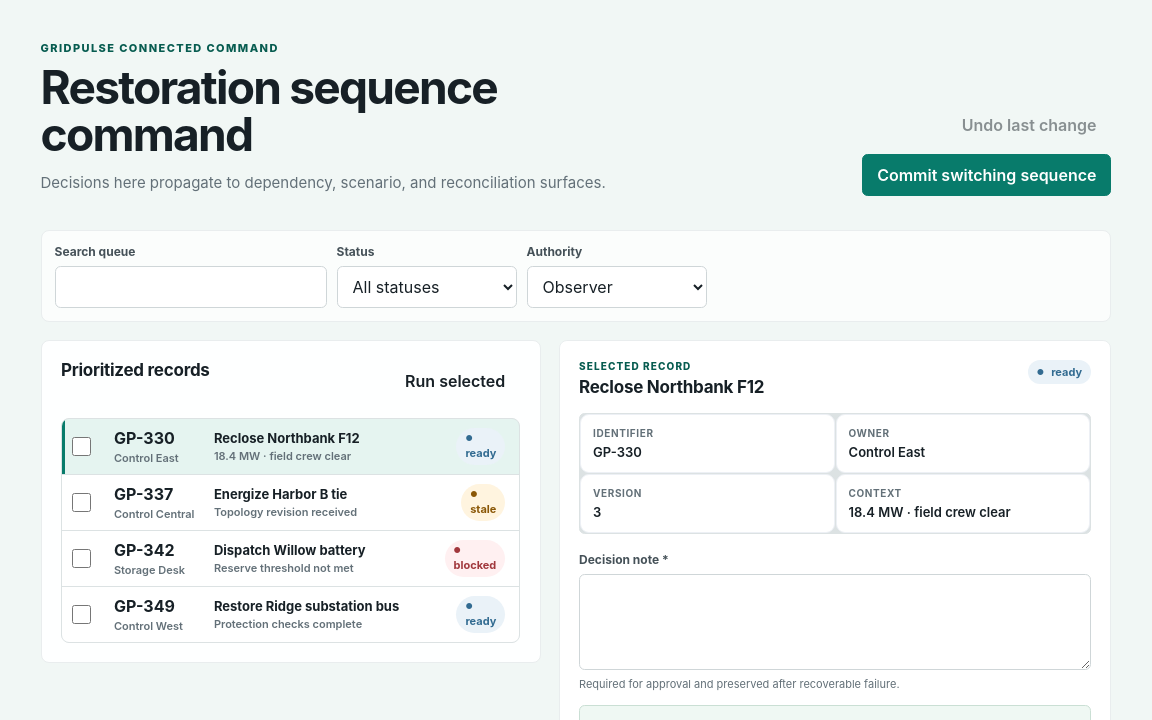
Restoration sequence command › filters the queue and offers recovery from an empty result
In the field labelled "Search queue": (190, 287) x1=54 y1=266 x2=326 y2=308, type "not-present"
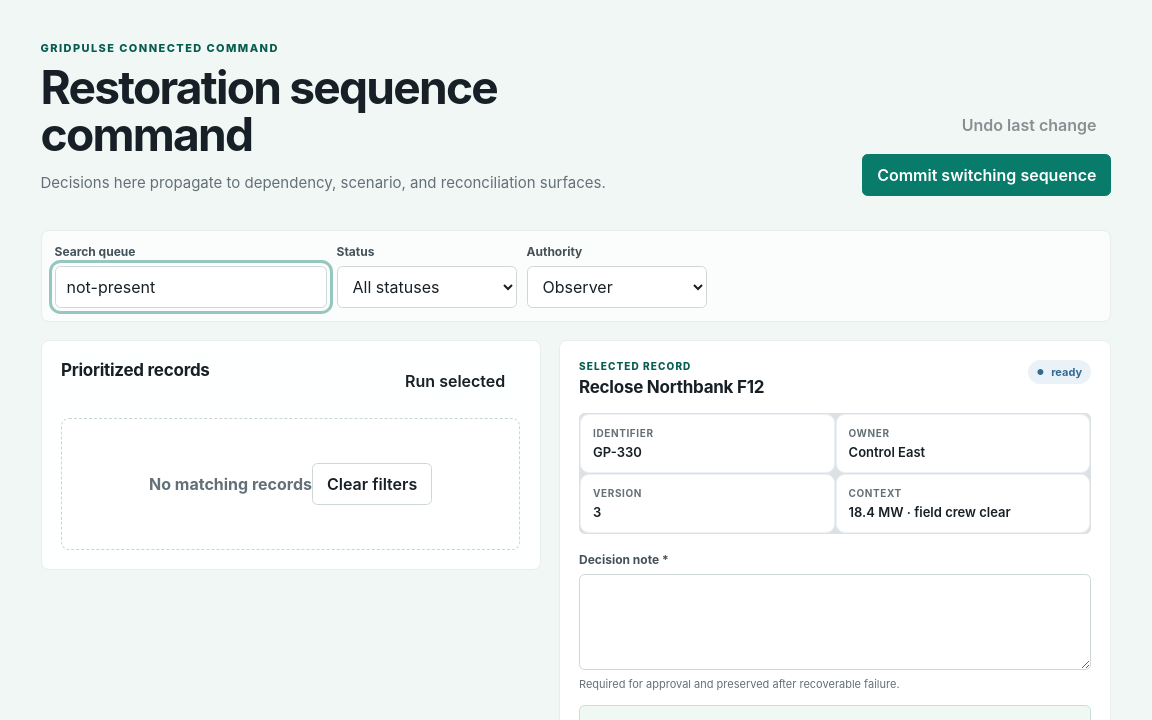
Result: the text "No matching records" is shown at x1=149 y1=474 x2=312 y2=494
Click the button "Clear filters": (372, 484) x1=312 y1=463 x2=432 y2=505
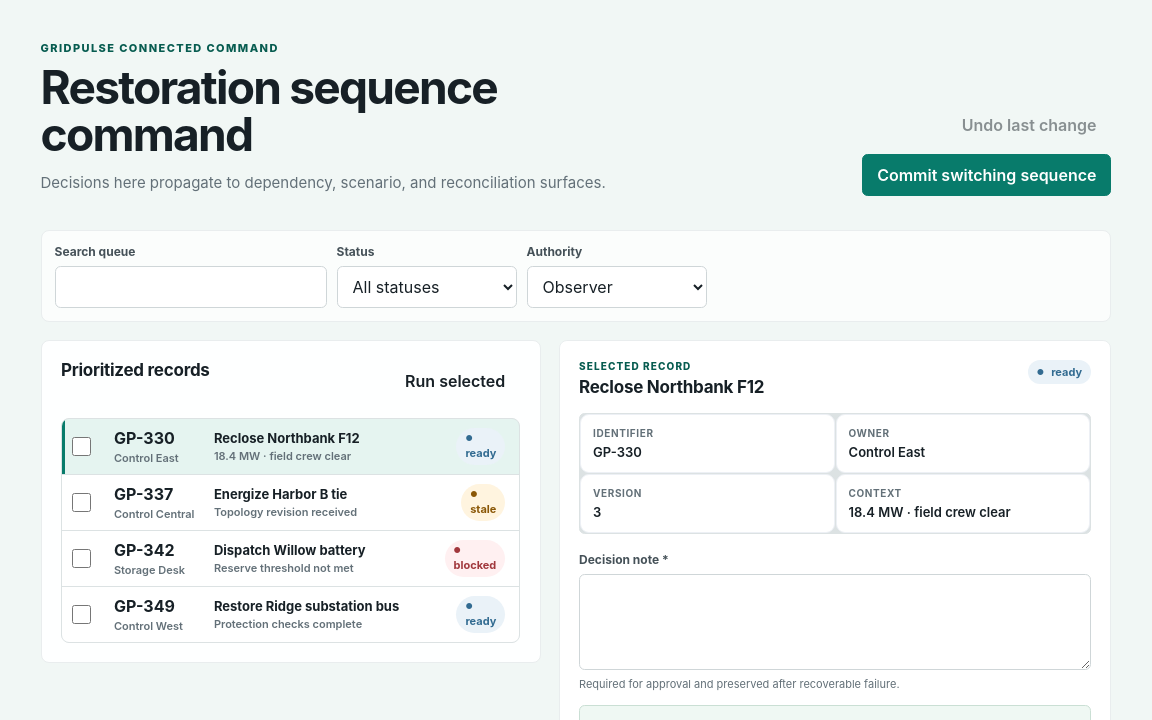
Result: the text "Reclose Northbank F12" is shown 2 times at x1=214 y1=430 x2=360 y2=446; x1=579 y1=377 x2=764 y2=397
